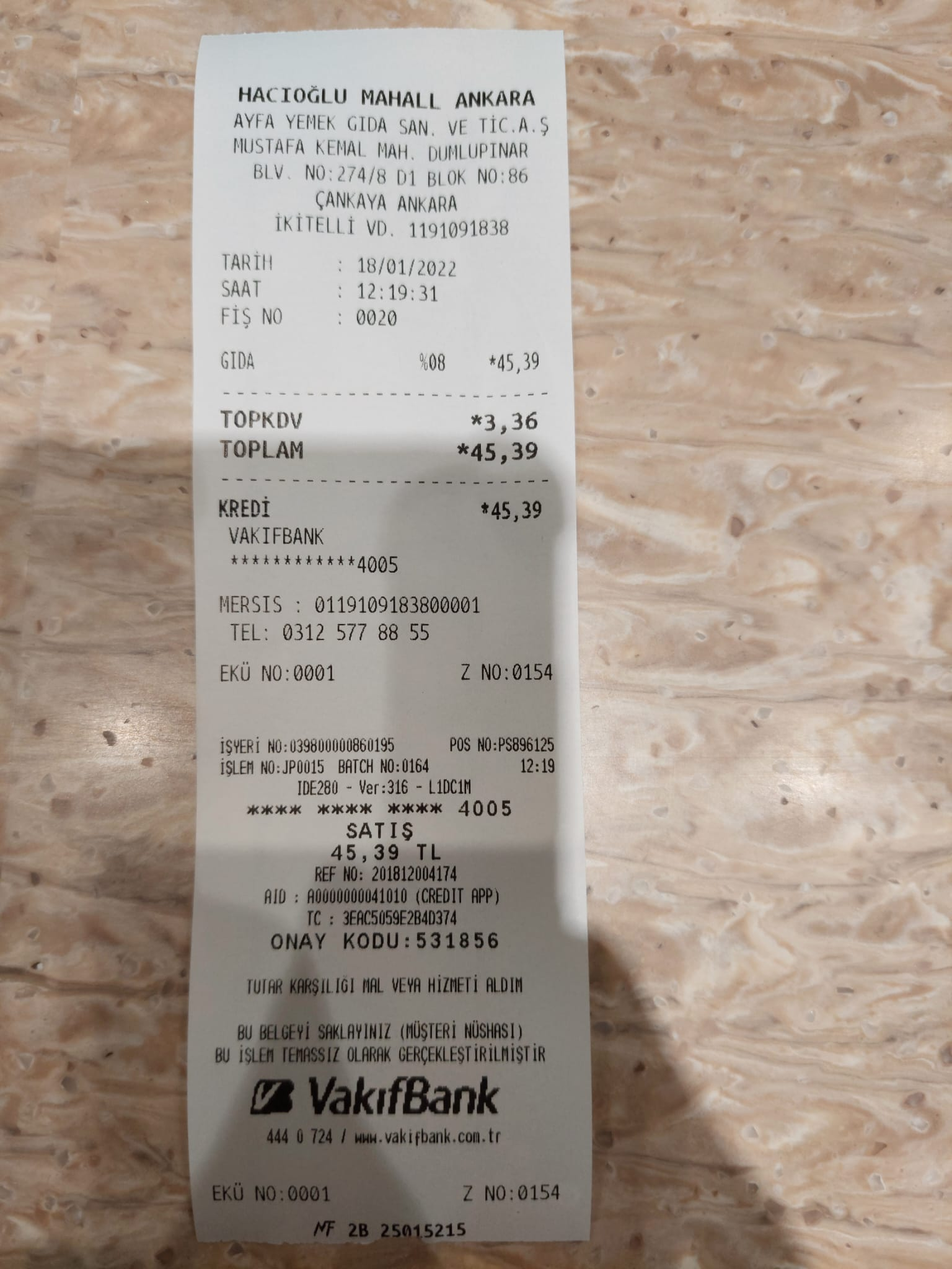date: (465, 432, 547, 469)
price: (354, 249, 465, 282)
workplace: (217, 71, 565, 217)
